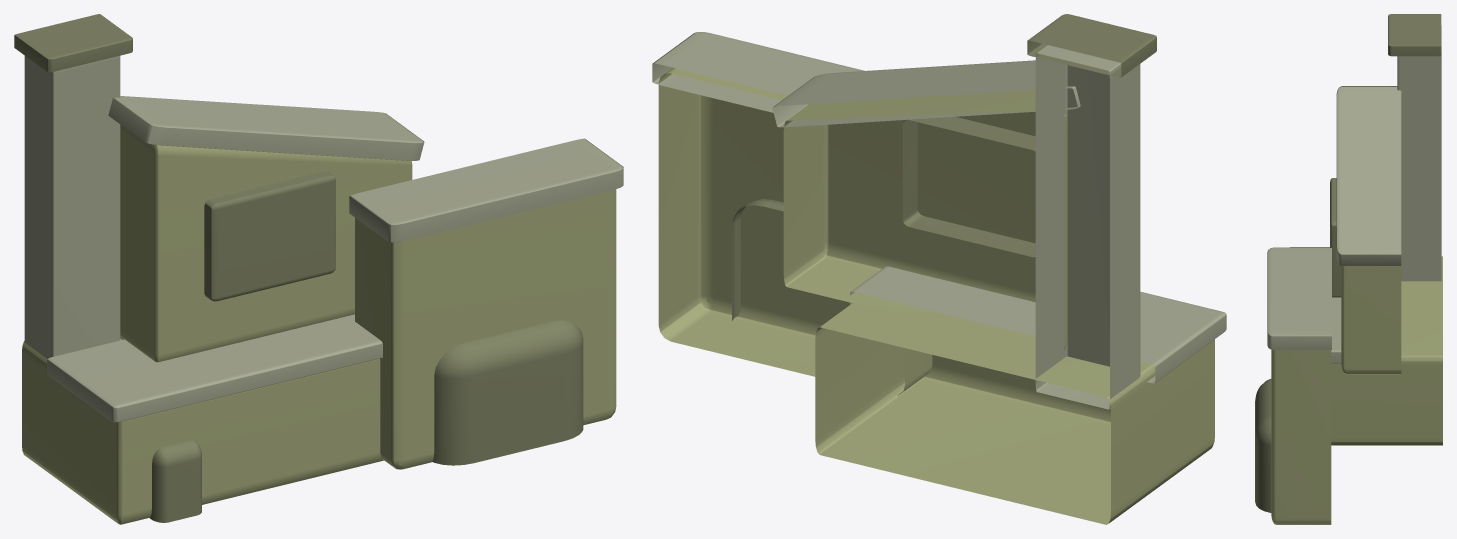
3 renders of one model, left to right at view 1: azimuth 30°, elevation 25°; view 2: azimuth 150°, elevation 25°; view 3: azimuth 270°, elevation 25°, orthographic. The views are drawn at different scales.
Parts seen in each view (by area): view 1: polySurface77, polySurface75, polySurface72, polySurface73; view 2: polySurface77, polySurface75, polySurface73, polySurface72; view 3: polySurface77, polySurface75, polySurface73, polySurface72.
Boxes of the visible parts, x1,y1,x2,y2 form: polySurface77: (22, 124, 616, 524); polySurface75: (24, 56, 623, 422); polySurface72: (149, 320, 583, 522); polySurface73: (14, 14, 335, 301); polySurface77: (658, 67, 1214, 524); polySurface75: (652, 32, 1226, 409); polySurface73: (902, 14, 1156, 257); polySurface72: (732, 199, 783, 320); polySurface77: (1271, 256, 1442, 524); polySurface75: (1267, 25, 1441, 363); polySurface73: (1330, 14, 1441, 297); polySurface72: (1255, 379, 1271, 512).
Bounding box in the file's own units: 13.38 × 10.87 × 5.63.
